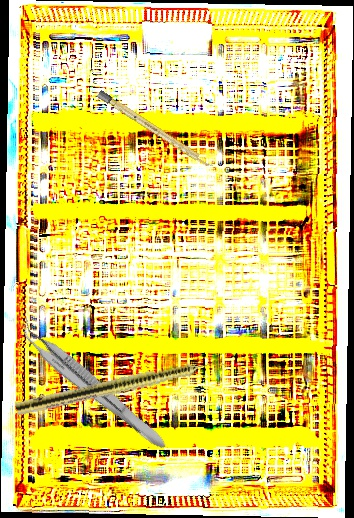Handpiece: (14, 352, 231, 420)
Scalpel Handle: (96, 89, 215, 171)
Tissue Forceps: (10, 316, 176, 453)
